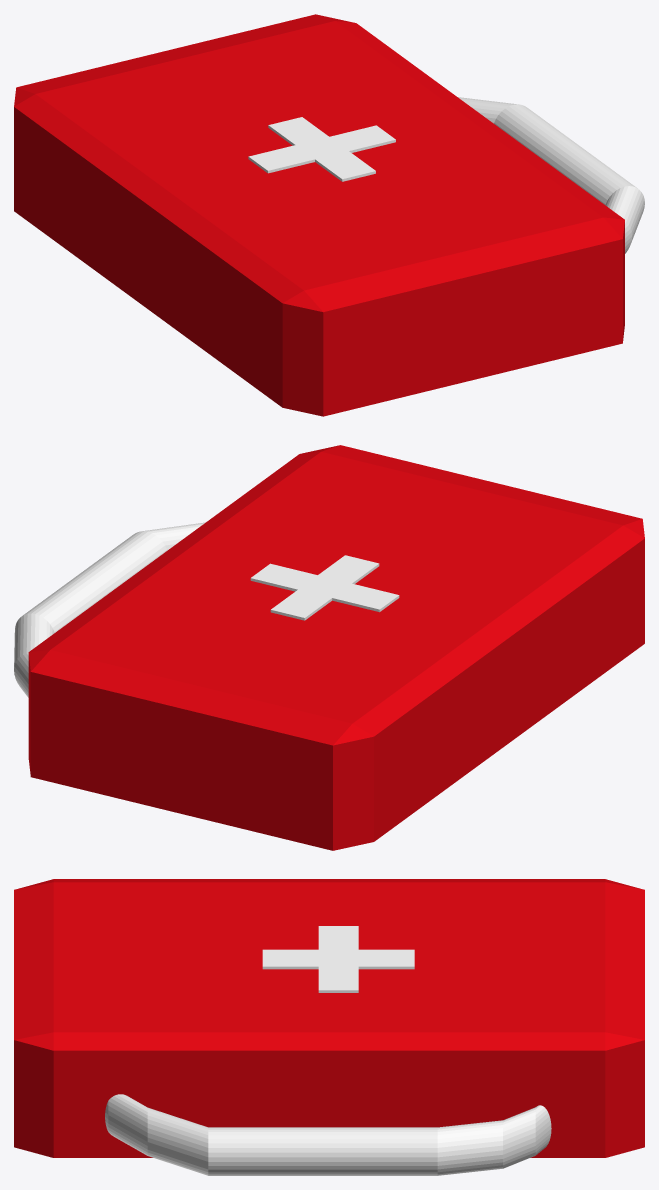
Rendered from Calvin_140810200053_MedKit.fbx.
3 views of the same model, one above another, from view 1: azimuth 30°, elevation 25°; view 2: azimuth 150°, elevation 25°; view 3: azimuth 270°, elevation 25° (orthographic). The views are drawn at different scales.
Visible parts, largest first — view 1: Cube, Cylinder, Cube.002, Cube.001; view 2: Cube, Cylinder, Cube.001, Cube.002; view 3: Cube, Cylinder, Cube.001, Cube.002.
Boxes of the visible parts, x1=… form: Cube: x1=14, y1=14, x2=624, y2=416; Cylinder: x1=458, y1=97, x2=644, y2=253; Cube.002: x1=248, y1=125, x2=395, y2=173; Cube.001: x1=268, y1=117, x2=375, y2=181; Cube: x1=28, y1=445, x2=644, y2=850; Cylinder: x1=14, y1=522, x2=205, y2=697; Cube.001: x1=270, y1=555, x2=379, y2=620; Cube.002: x1=250, y1=563, x2=399, y2=612; Cube: x1=14, y1=879, x2=644, y2=1157; Cylinder: x1=105, y1=1094, x2=551, y2=1175; Cube.001: x1=262, y1=949, x2=414, y2=969; Cube.002: x1=318, y1=926, x2=358, y2=992.
Size of the model in its own units: 205 by 54.57 by 249.
